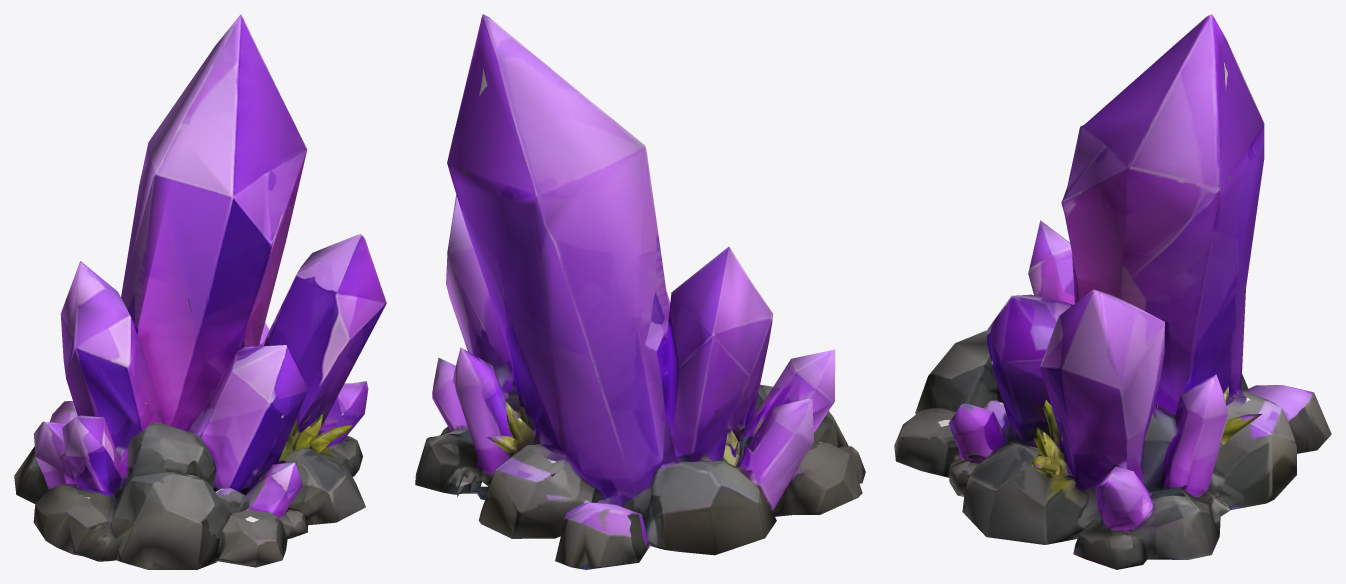
File: dec_crystals.glb
3 renders of one model, left to right at view 1: azimuth 30°, elevation 25°; view 2: azimuth 150°, elevation 25°; view 3: azimuth 270°, elevation 25°, orthographic. The views are drawn at different scales.
Parts seen in each view (by area): view 1: BakeLow; view 2: BakeLow; view 3: BakeLow.
Boxes of the visible parts, x1,y1,x2,y2 form: BakeLow: [14, 14, 386, 569]; BakeLow: [415, 14, 865, 569]; BakeLow: [894, 14, 1331, 569].
Size of the model in its own units: 0.6852 by 0.8215 by 0.6382.
1 material, 1 textured.
